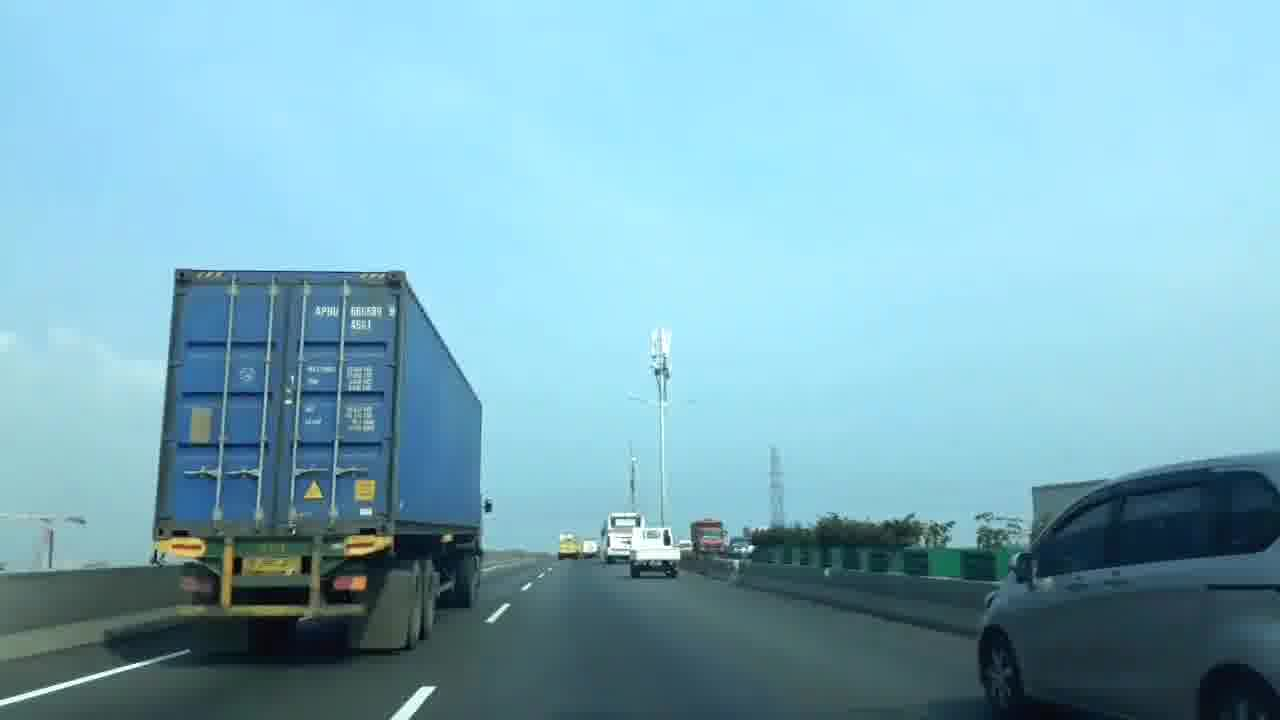plate_positive: (240, 556, 302, 576)
